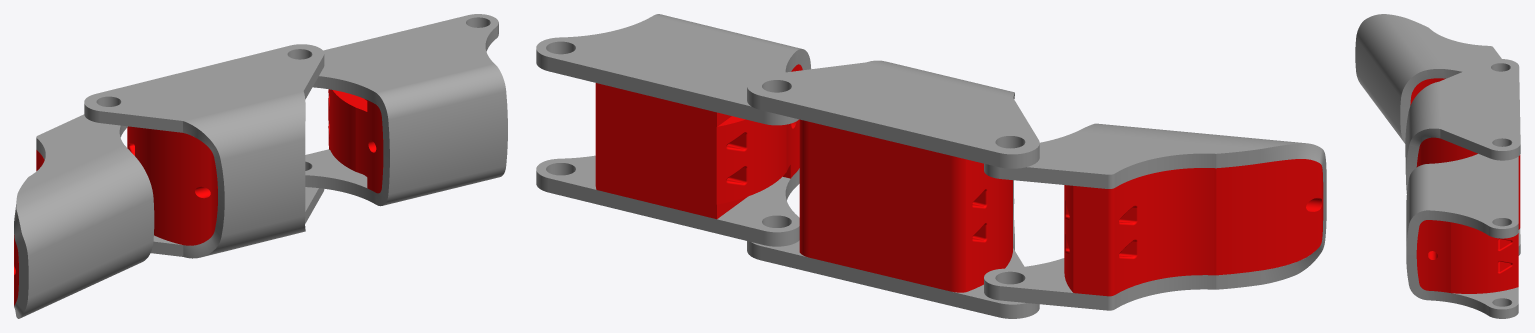
Rendered from Finger Assembly.dae.
The picture shows the model from 3 angles, left to right: view 1: azimuth 30°, elevation 25°; view 2: azimuth 150°, elevation 25°; view 3: azimuth 270°, elevation 25°; orthographic projection. The views are drawn at different scales.
Parts seen in each view (by area): view 1: Part 2 (×3), Part 4, Part 1 (×3), Part 3; view 2: Part 1 (×3), Part 2 (×3), Part 3, Part 4; view 3: Part 2 (×3), Part 1 (×3), Part 4.
Part boxes in pixels (bbox=[...]): Part 2 (×3): bbox=[14, 14, 507, 318]; Part 4: bbox=[183, 91, 305, 258]; Part 1 (×3): bbox=[14, 89, 383, 305]; Part 3: bbox=[151, 187, 324, 256]; Part 1 (×3): bbox=[595, 64, 1323, 296]; Part 2 (×3): bbox=[536, 14, 1326, 310]; Part 3: bbox=[747, 240, 1039, 318]; Part 4: bbox=[866, 60, 1014, 250]; Part 2 (×3): bbox=[1355, 14, 1520, 318]; Part 1 (×3): bbox=[1410, 78, 1520, 293]; Part 4: bbox=[1405, 81, 1440, 193].
Size of the model in its own units: 0.158 by 0.05 by 0.0364.
